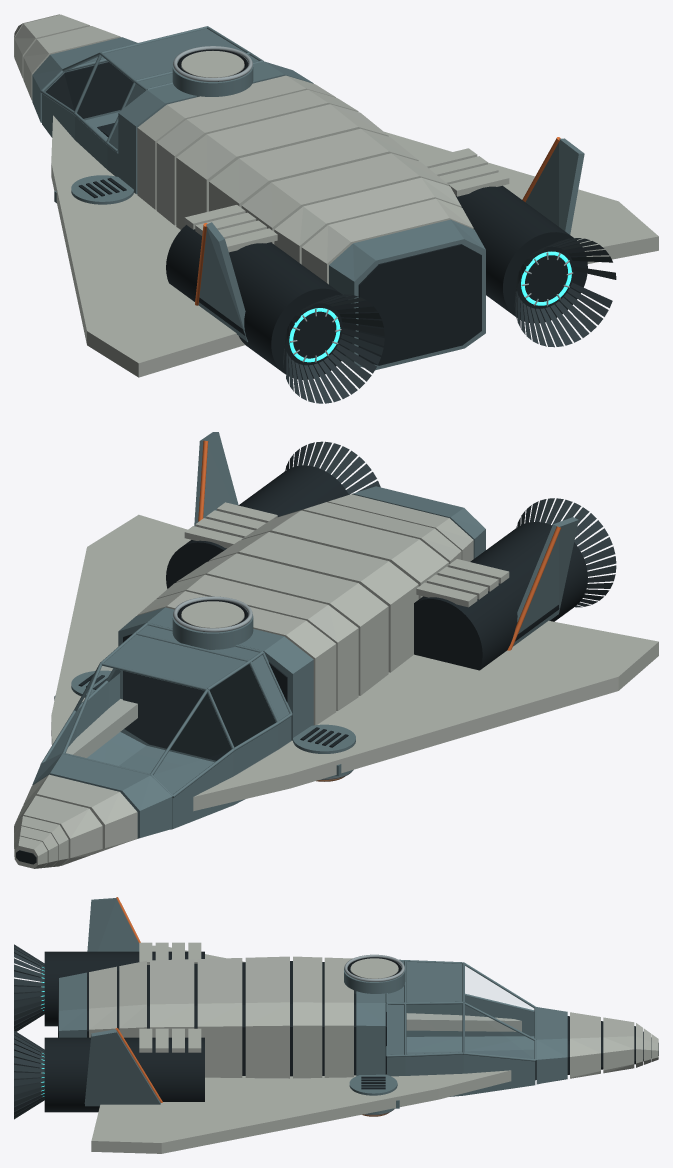
File: hero-ship-mid.glb
3 views of the same model, one above another, from view 1: azimuth 30°, elevation 25°; view 2: azimuth 150°, elevation 25°; view 3: azimuth 270°, elevation 25° (orthographic). The views are drawn at different scales.
Parts seen in each view (by area): view 1: hero-ship / mid; view 2: hero-ship / mid; view 3: hero-ship / mid.
Boxes of the visible parts, x1,y1,x2,y2 form: hero-ship / mid: (14, 14, 658, 403); hero-ship / mid: (14, 432, 658, 868); hero-ship / mid: (14, 897, 658, 1153).
Bounding box in the file's own units: 14 × 3.91 × 19.32.
